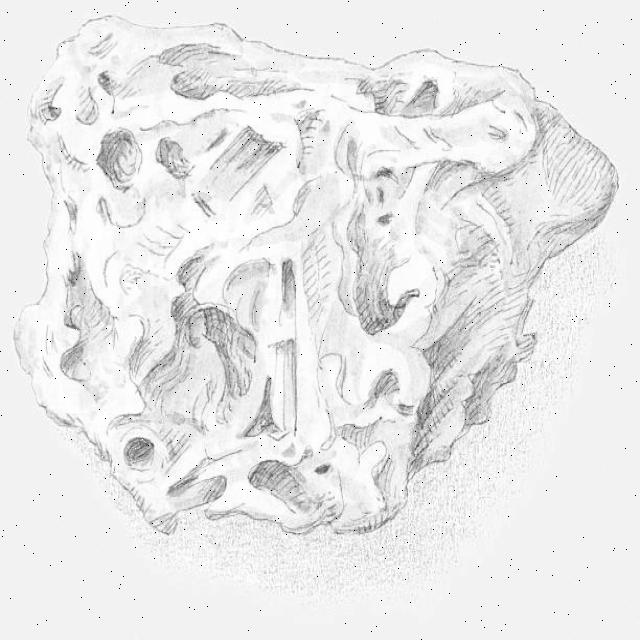Sedimentary: (10, 16, 634, 538)
